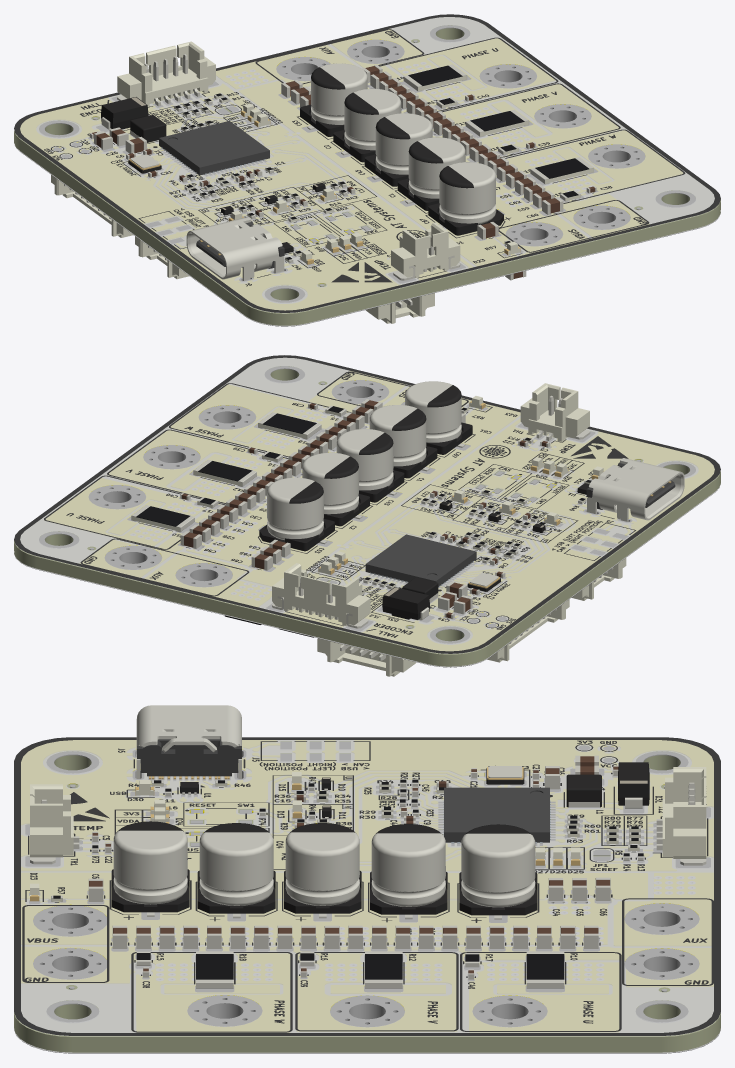
The model's file is obhai-bldc.glb.
3 views of the same model, one above another, from view 1: azimuth 30°, elevation 25°; view 2: azimuth 150°, elevation 25°; view 3: azimuth 270°, elevation 25° (orthographic). The views are drawn at different scales.
Parts seen in each view (by area): view 1: =>[0:1:1:30], =>[0:1:1:25], =>[0:1:1:32], =>[0:1:1:28], =>[0:1:1:26], J12, J6, C67, =>[0:1:1:2], C53, C43, C2 (+12 smaller); view 2: =>[0:1:1:30], =>[0:1:1:25], =>[0:1:1:32], =>[0:1:1:28], =>[0:1:1:26], J6, C53, J12, =>[0:1:1:2], C2, C67, C43 (+11 smaller); view 3: =>[0:1:1:30], =>[0:1:1:25], =>[0:1:1:32], =>[0:1:1:26], =>[0:1:1:28], J6, C53, C67, C1, C2, C43, =>[0:1:1:2] (+10 smaller).
Boxes of the visible parts, box(x1,y1,x2,y2) form: =>[0:1:1:30]: box(17, 17, 716, 313); =>[0:1:1:25]: box(20, 30, 682, 309); =>[0:1:1:32]: box(14, 17, 720, 325); =>[0:1:1:28]: box(14, 14, 720, 312); =>[0:1:1:26]: box(39, 25, 695, 302); J12: box(117, 41, 215, 106); J6: box(186, 217, 284, 280); C67: box(428, 162, 503, 235); =>[0:1:1:2]: box(159, 121, 269, 175); C53: box(300, 63, 367, 136); C43: box(364, 113, 432, 186); C2: box(333, 88, 401, 162); =>[0:1:1:30]: box(15, 357, 719, 653); =>[0:1:1:25]: box(46, 374, 714, 650); =>[0:1:1:32]: box(14, 358, 720, 666); =>[0:1:1:28]: box(14, 355, 720, 653); =>[0:1:1:26]: box(39, 366, 695, 643); J6: box(586, 458, 684, 521); C53: box(259, 477, 334, 551); J12: box(272, 563, 370, 628); =>[0:1:1:2]: box(365, 534, 476, 586); C2: box(302, 452, 369, 526); C67: box(405, 381, 472, 454); C43: box(336, 429, 404, 502); =>[0:1:1:30]: box(15, 740, 719, 1036); =>[0:1:1:25]: box(21, 740, 713, 1032); =>[0:1:1:32]: box(14, 740, 720, 1052); =>[0:1:1:26]: box(25, 741, 710, 1027); =>[0:1:1:28]: box(14, 737, 720, 1035); J6: box(136, 705, 241, 779); C53: box(459, 824, 537, 919); C67: box(111, 821, 189, 916); C1: box(197, 823, 275, 918); C2: box(370, 824, 447, 919); C43: box(284, 823, 361, 918); =>[0:1:1:2]: box(444, 787, 549, 842).
Size of the model in its own units: 0.06 by 0.0109 by 0.06.
